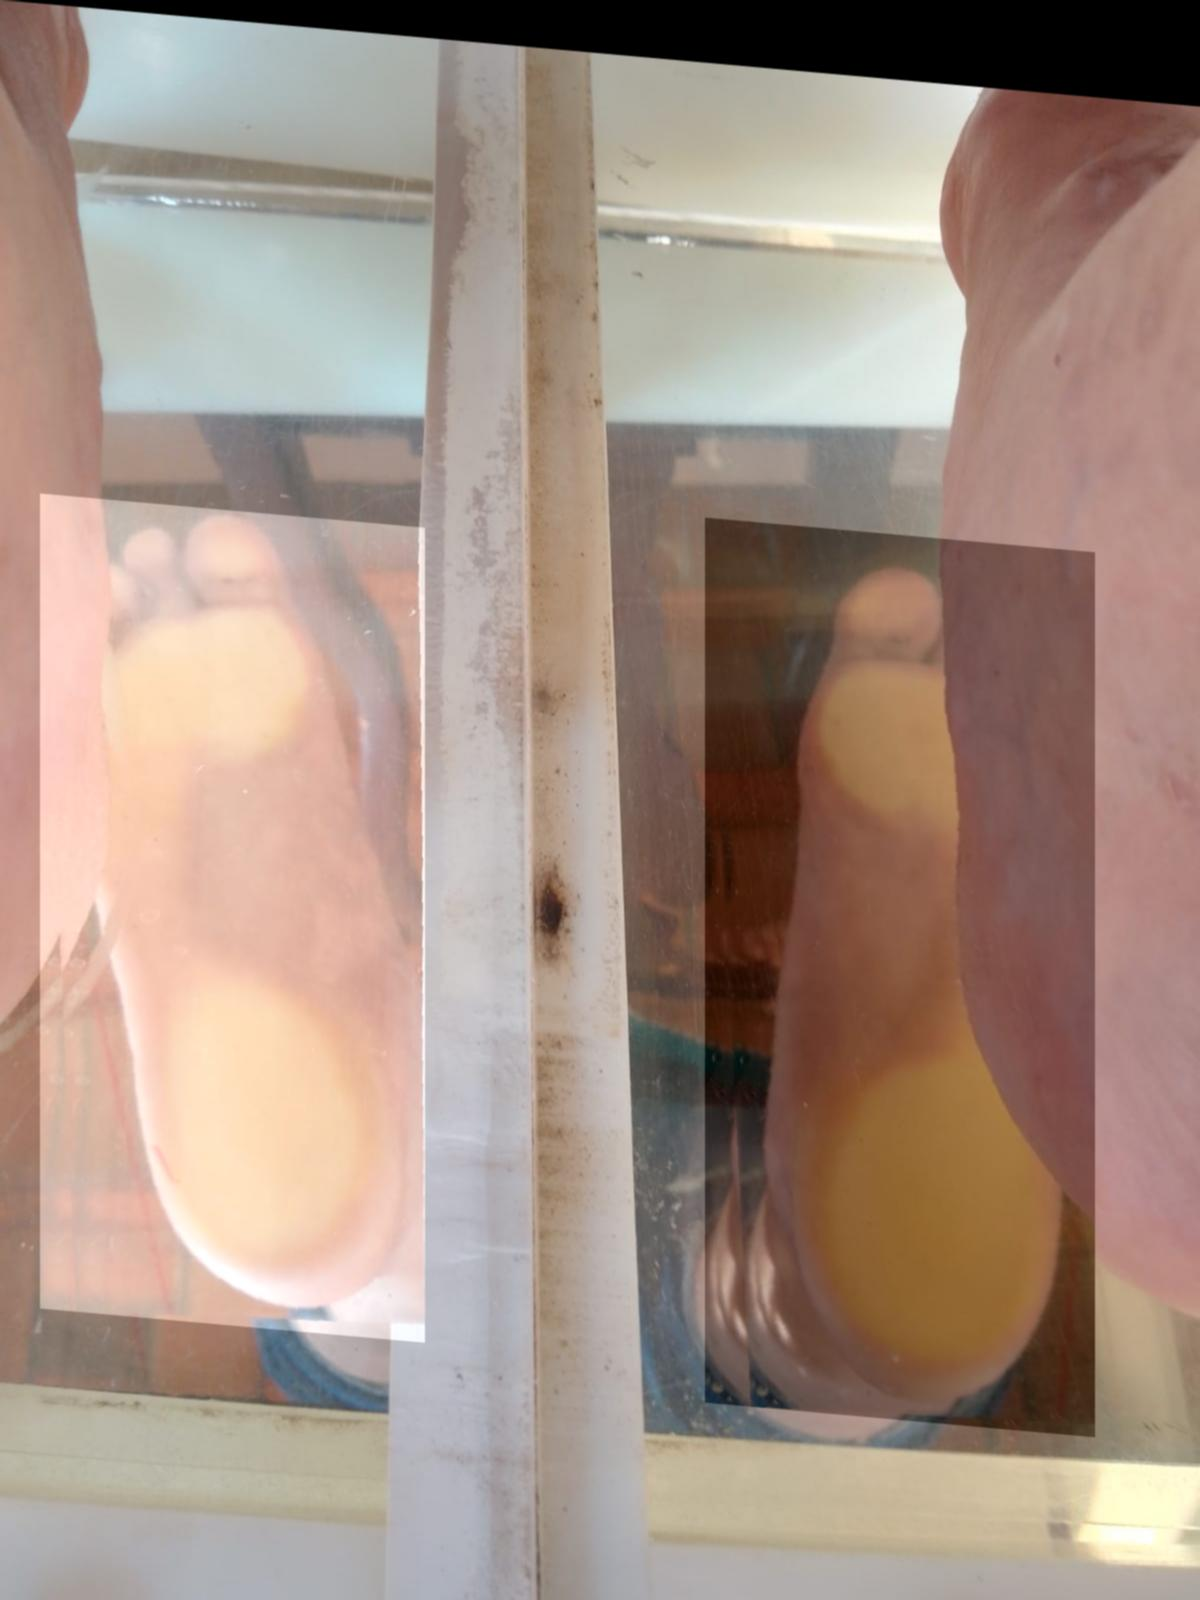9: (705, 504, 1095, 1416)
Present: (40, 493, 425, 1334)
